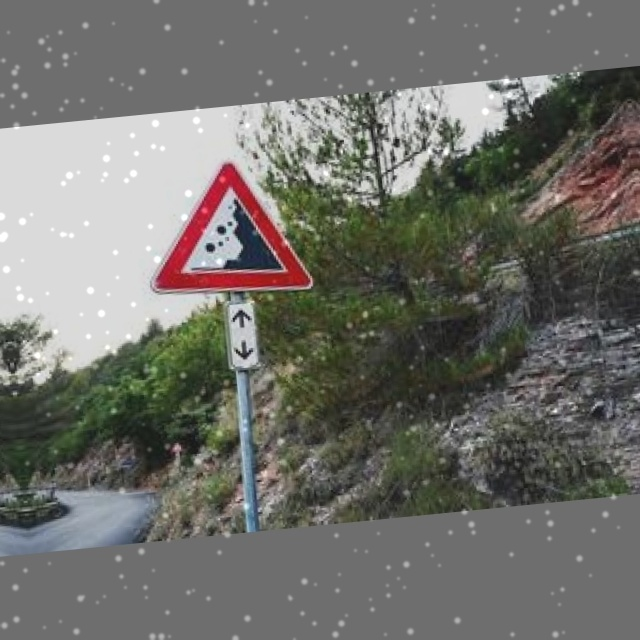Falling_Rocks: (133, 155, 319, 303)
